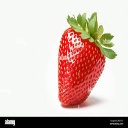strawberry: (57, 14, 117, 106)
